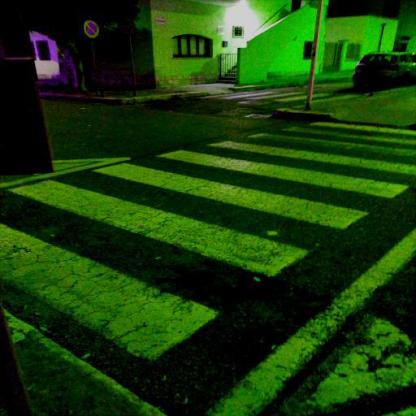crosswalk: (88, 144, 414, 236)
